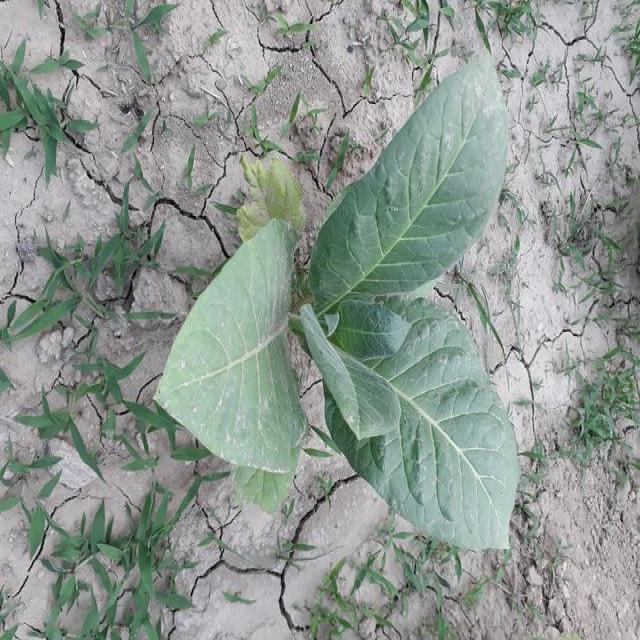crop: (162, 67, 528, 570)
